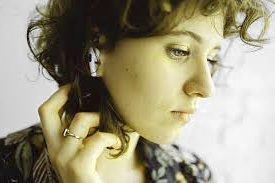earphone: (83, 28, 112, 77)
